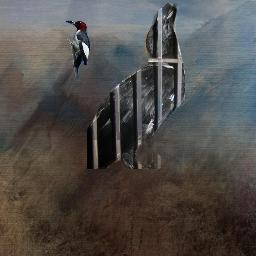Crow: (87, 3, 185, 169)
Woodpecker: (66, 20, 90, 81)
